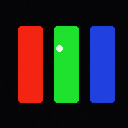0 point: (56, 45, 62, 51)
